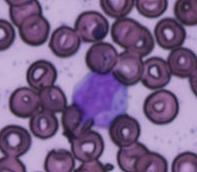M: (71, 70, 129, 129)
